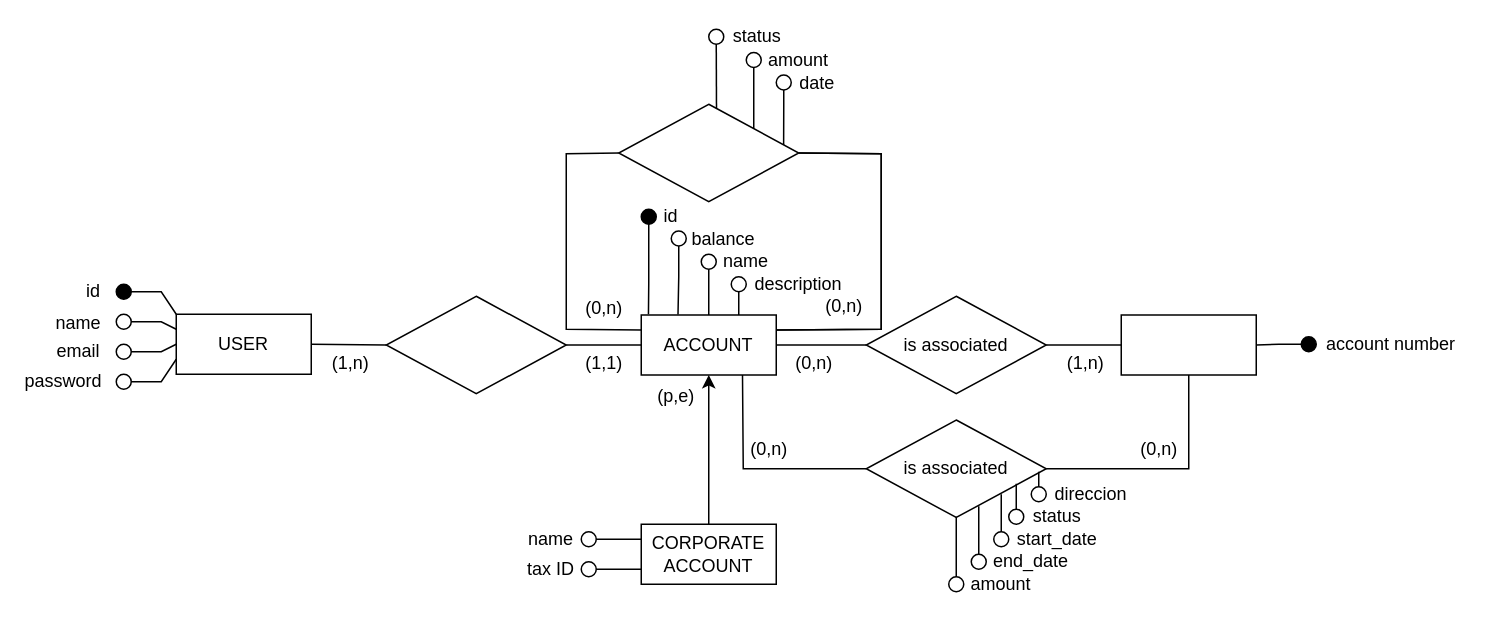
Some shapes in this 1485 by 620 pixel diagram are drawn without their labels. Each missing label, with the centre of its shape:
"BANK ACCOUNT" belongs at (1188,344).
"has" belongs at (475,344).
"transfers" belongs at (708,152).
